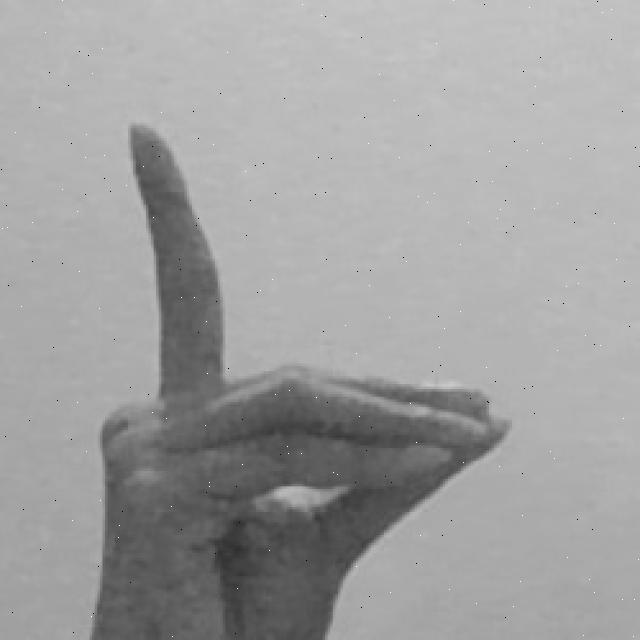D: (80, 120, 521, 640)
